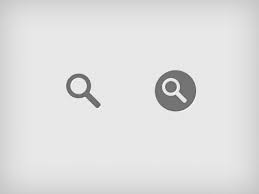searchIcon: (65, 71, 100, 110), (160, 73, 187, 106)
